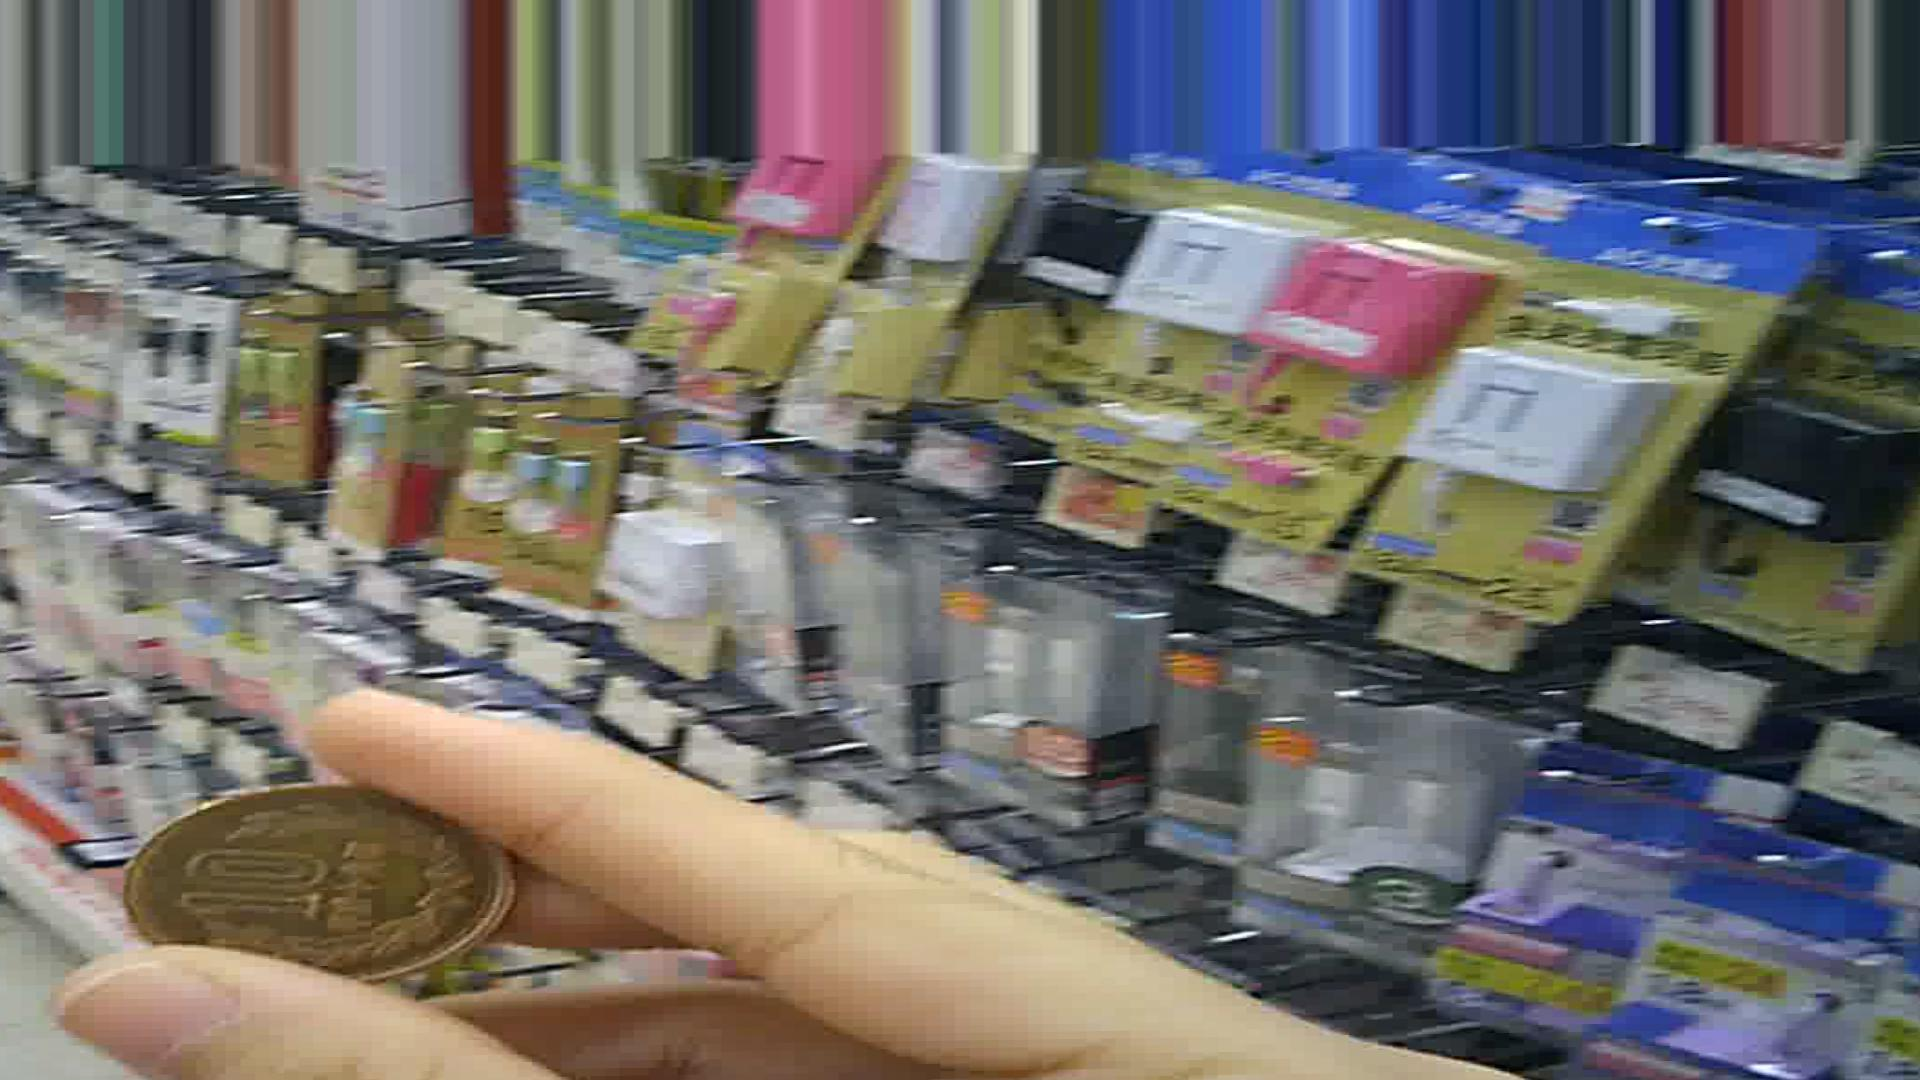10 Yen: (120, 783, 508, 997)
